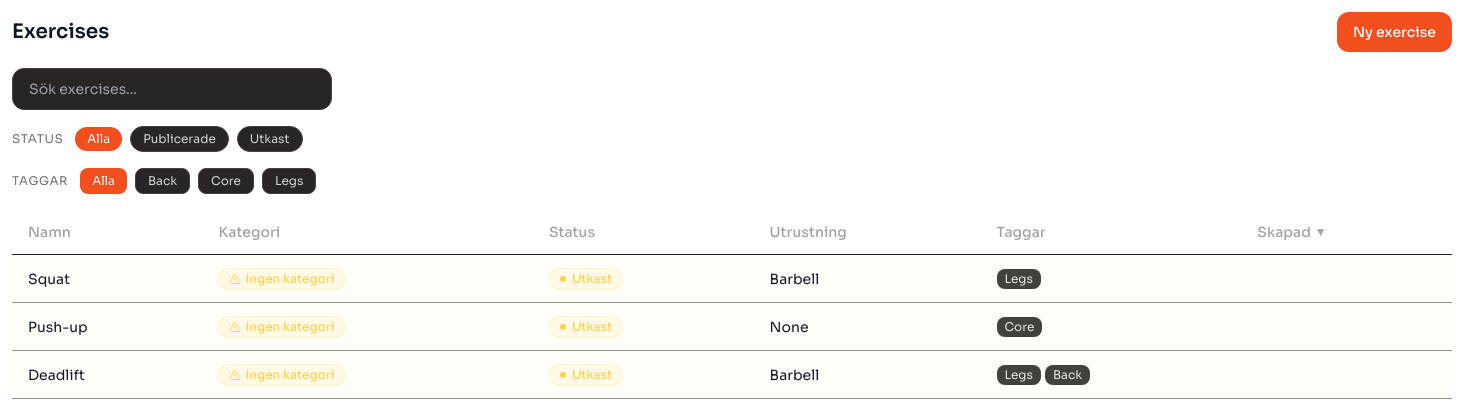
Test: ExerciseList › rensar tagg-filtret med "Alla"
Expected: the text "Squat" is shown, left=12, top=254, right=202, bottom=302
Click the button "Core" at {"x": 226, "y": 181}, box left=198, top=168, right=254, bottom=194
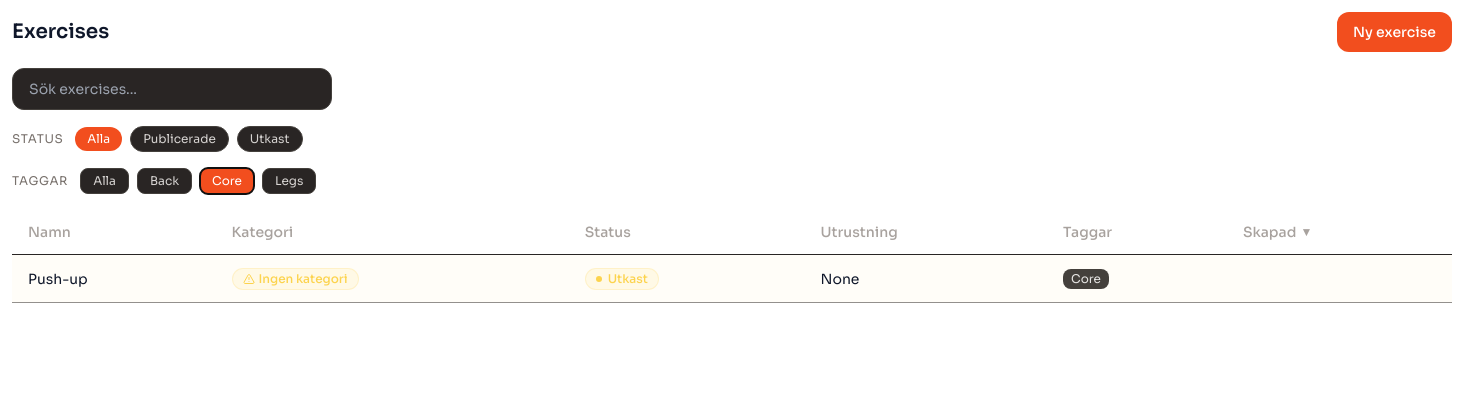
Now the text "Squat" is gone
Click the button with aria-label "Alla taggar" at {"x": 104, "y": 181}, box left=80, top=168, right=129, bottom=194
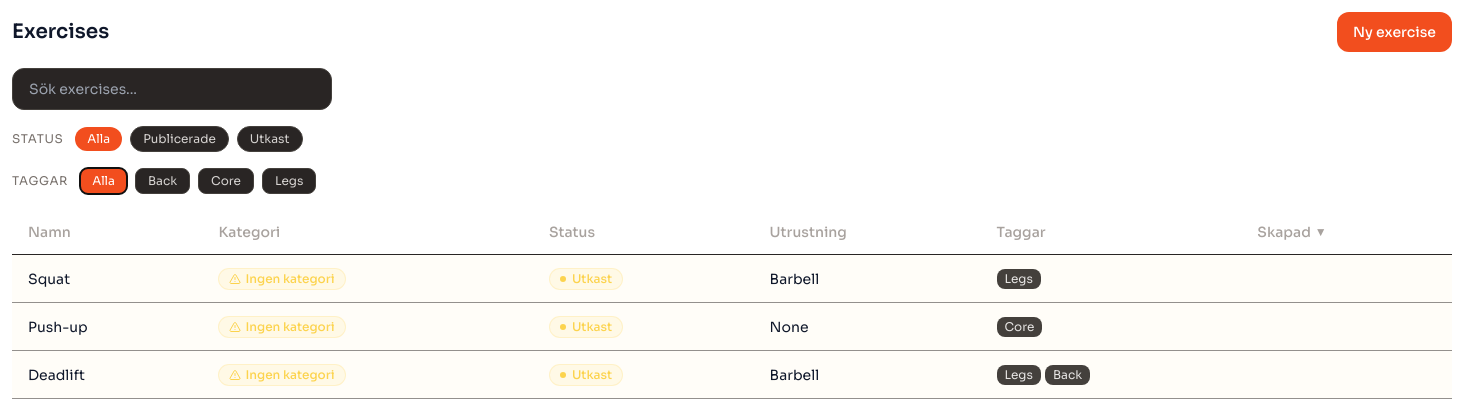
Expected: the text "Push-up" is shown, left=12, top=302, right=202, bottom=350
Now the text "Squat" is shown, box left=12, top=254, right=202, bottom=302
Now the text "Deadlift" is shown, box left=12, top=350, right=202, bottom=398
